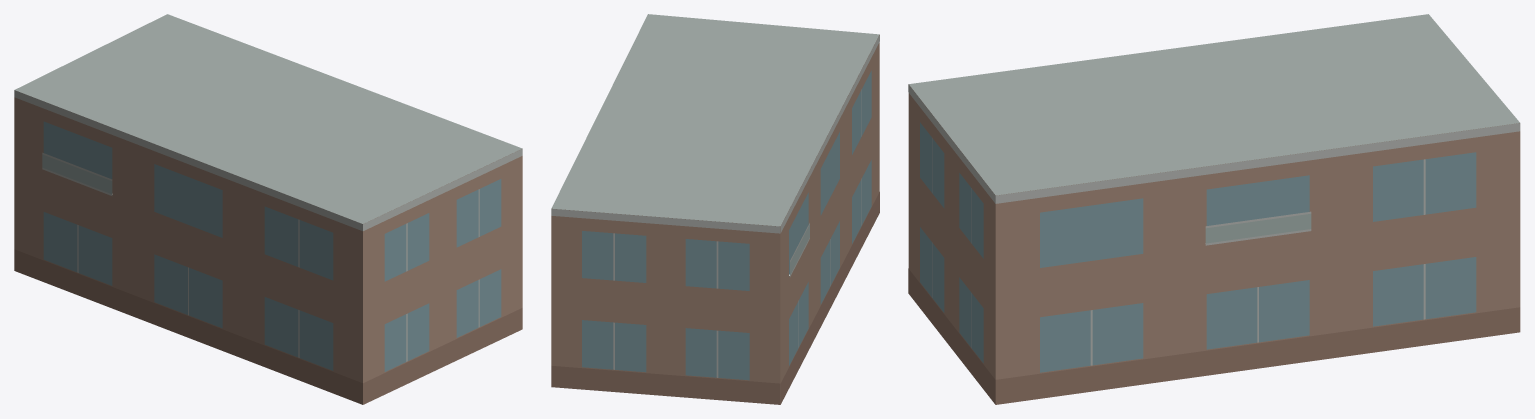
Rendered from survey-upis-32891588.glb.
3 views of the same model, side by side, from view 1: azimuth 30°, elevation 25°; view 2: azimuth 150°, elevation 25°; view 3: azimuth 270°, elevation 25° (orthographic). The views are drawn at different scales.
Visible parts, largest first — view 1: survey-upis-32891588.tmp; view 2: survey-upis-32891588.tmp; view 3: survey-upis-32891588.tmp.
Boxes of the visible parts, x1,y1,x2,y2 form: survey-upis-32891588.tmp: [14, 14, 522, 404]; survey-upis-32891588.tmp: [551, 14, 879, 404]; survey-upis-32891588.tmp: [908, 14, 1520, 404].
Size of the model in its own units: 11.36 by 6.1 by 16.17.
